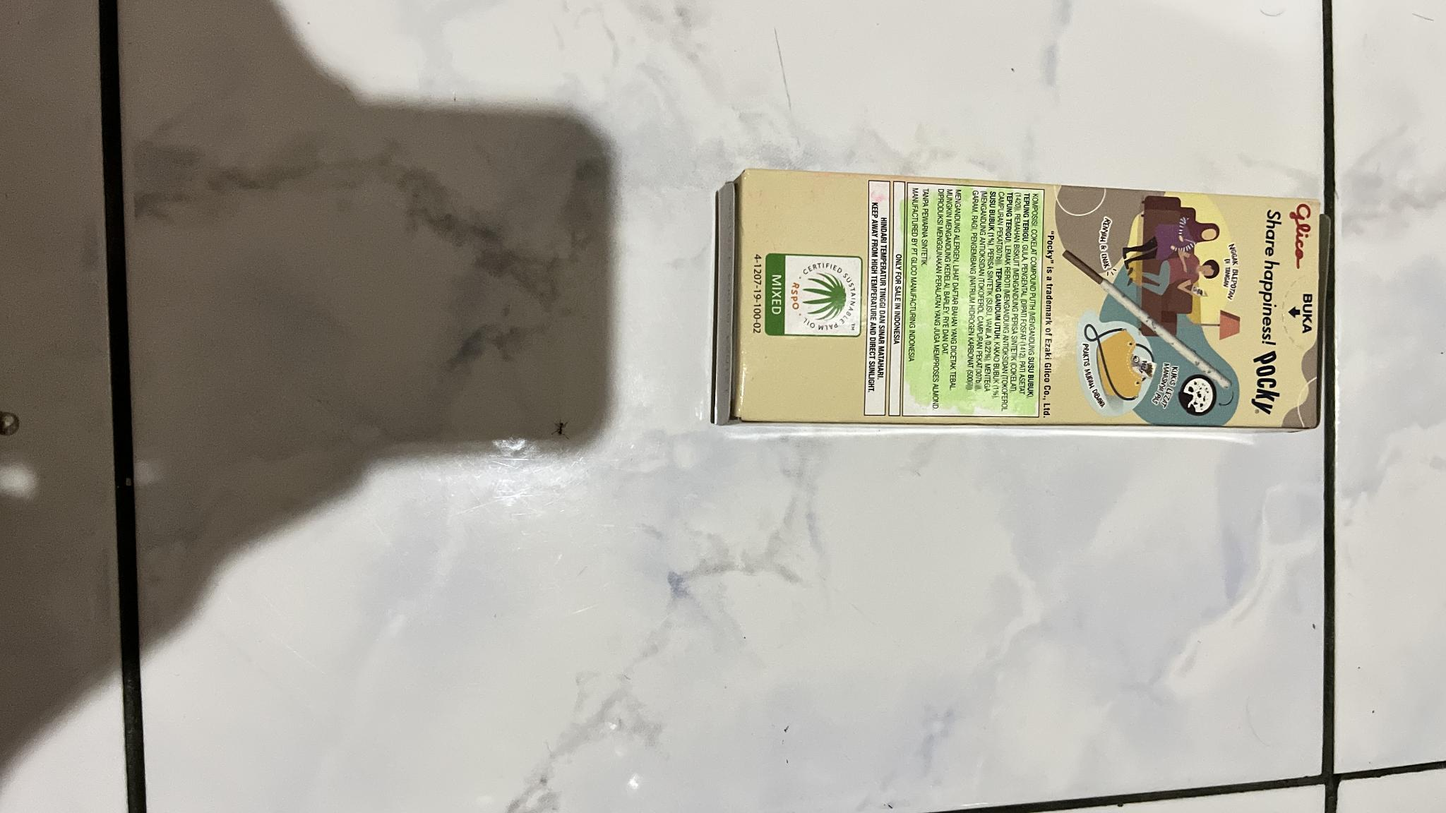Kertas: (739, 167, 1322, 428)
